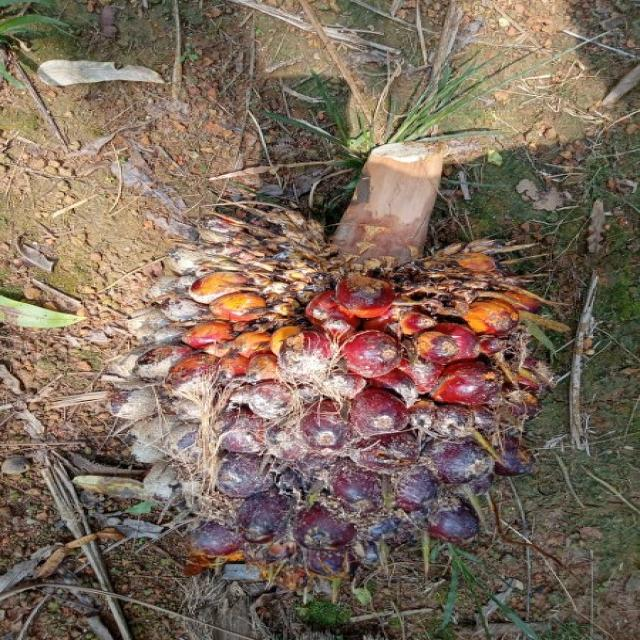fraksi 1: (90, 172, 594, 640)
